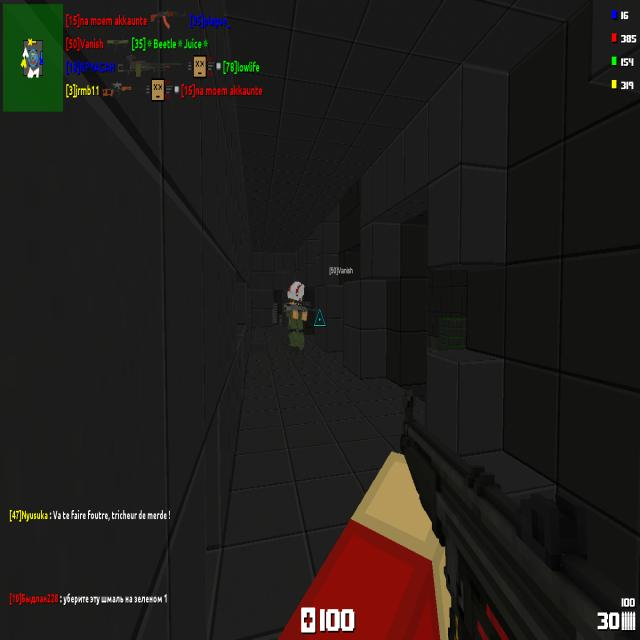enemy: (286, 280, 308, 358)
